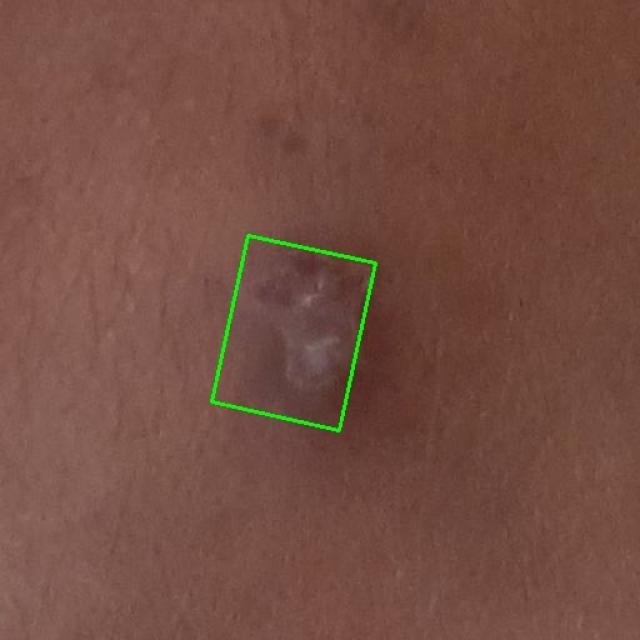Contact Dermatitis: (212, 235, 376, 430)
